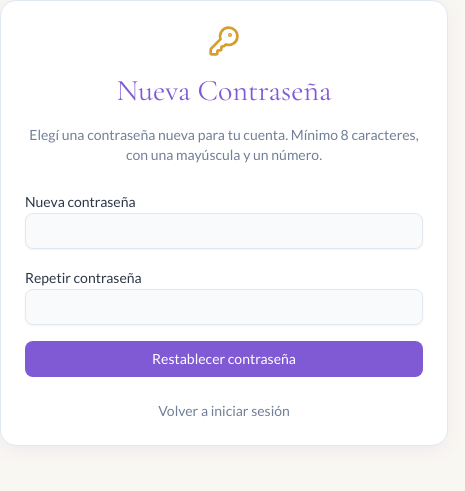
Test: ResetPasswordForm › Validación › should reject a password without an uppercase letter or a number
Type "sinmayusculas" into the password field labelled "Nueva contraseña" at (224, 231), box [25, 213, 423, 249]
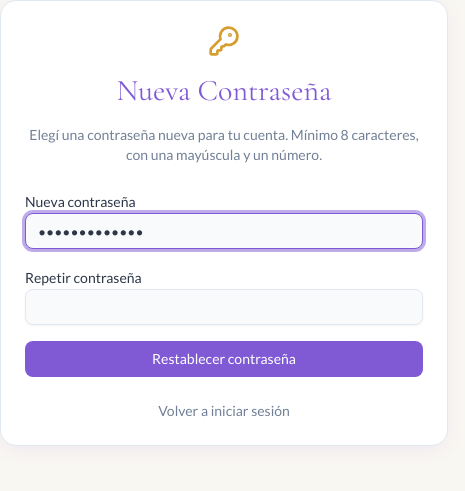
Type "sinmayusculas" into the password field labelled "Repetir contraseña" at (224, 307), box [25, 289, 423, 325]
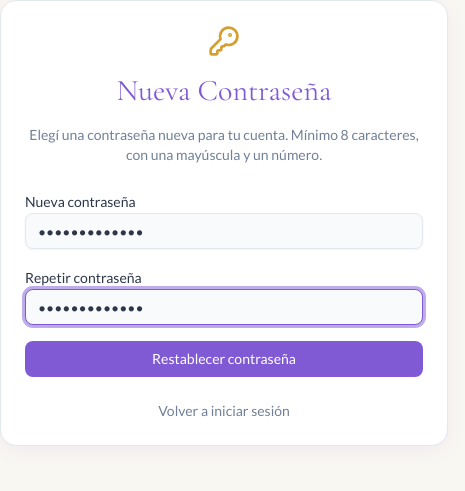
Click the button "Restablecer contraseña" at (224, 359), box [25, 341, 423, 377]
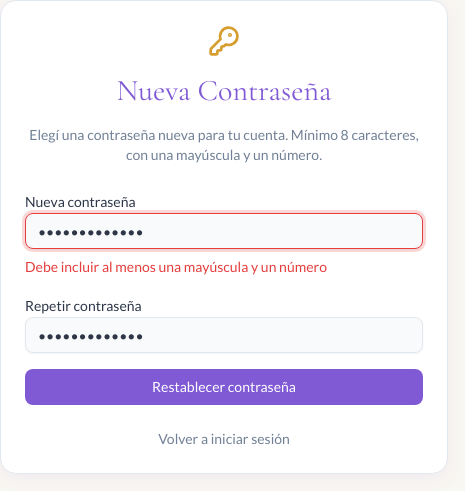
expect the text "Debe incluir al menos una mayúscula y un número" is shown: met, box [25, 258, 327, 275]
